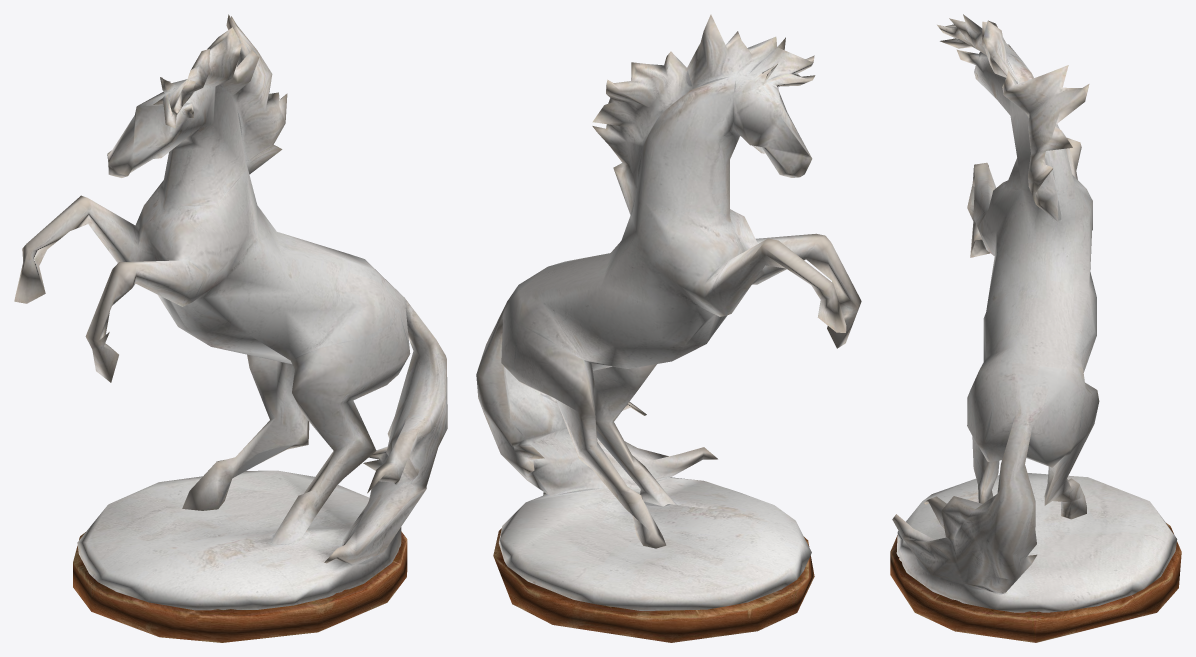
Rendered from horse_statue_01.glb.
3 renders of one model, left to right at view 1: azimuth 30°, elevation 25°; view 2: azimuth 150°, elevation 25°; view 3: azimuth 270°, elevation 25°, orthographic. The views are drawn at different scales.
Visible parts, largest first — view 1: horse_statue_01; view 2: horse_statue_01; view 3: horse_statue_01.
Part boxes in pixels (x1=…): horse_statue_01: x1=14, y1=14, x2=447, y2=642; horse_statue_01: x1=476, y1=14, x2=861, y2=642; horse_statue_01: x1=890, y1=14, x2=1181, y2=642.
Bounding box in the file's own units: 0.1622 × 0.22 × 0.1078.
1 material, 1 textured.
